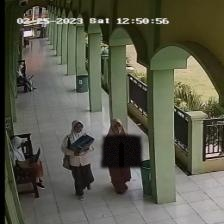Cadar_Niqab: (101, 118, 143, 167)
